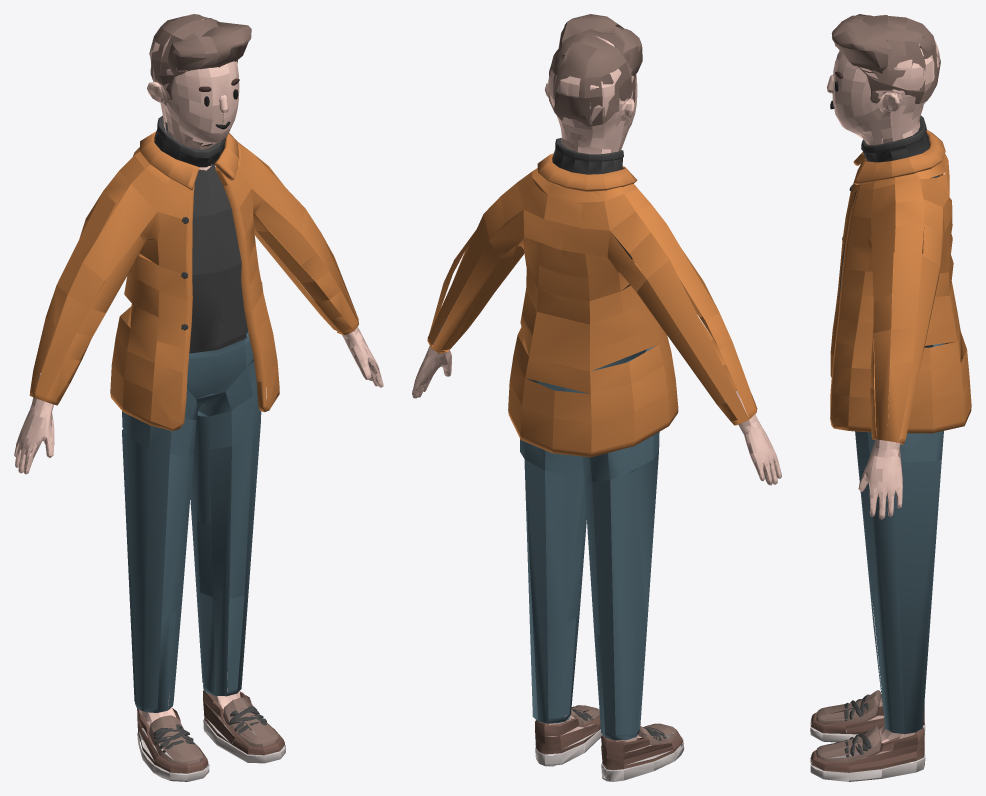
Rendered from person_m_8.glb.
3 renders of one model, left to right at view 1: azimuth 30°, elevation 25°; view 2: azimuth 150°, elevation 25°; view 3: azimuth 270°, elevation 25°, orthographic.
Parts seen in each view (by area): view 1: m_8; view 2: m_8; view 3: m_8.
Boxes of the visible parts, x1,y1,x2,y2 form: m_8: (14, 14, 383, 781); m_8: (412, 14, 781, 781); m_8: (810, 14, 971, 781).
Bounding box in the file's own units: 0.9546 × 1.84 × 0.3662.
1 material, 1 textured.
